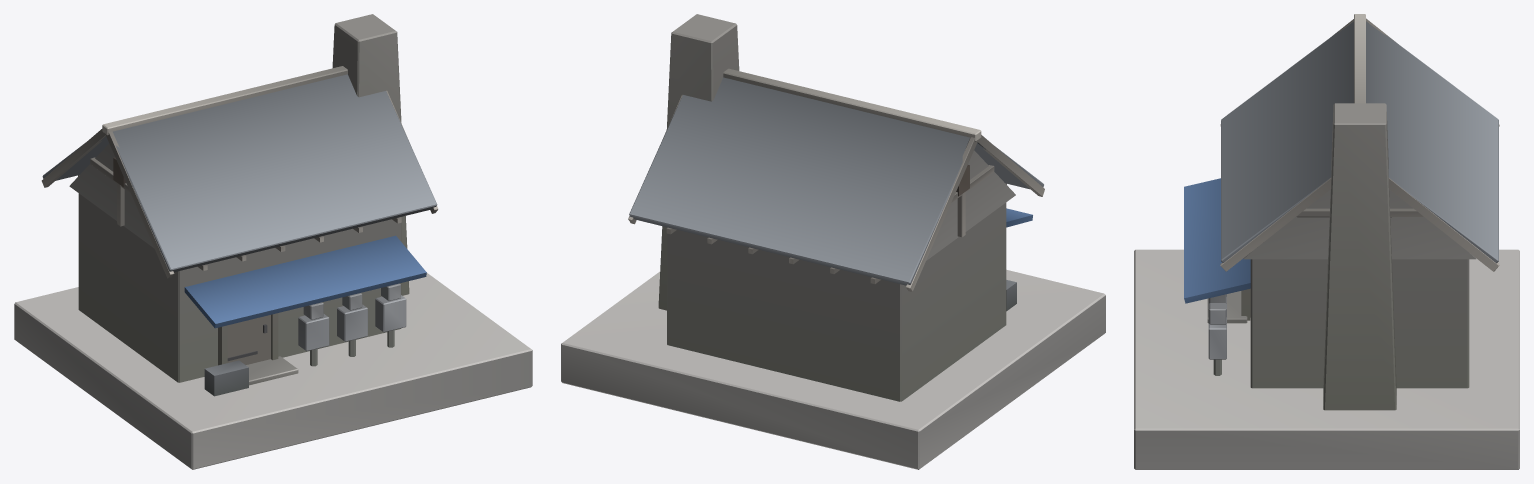
File: armourer_l1_lod0.glb
3 views of the same model, side by side, from view 1: azimuth 30°, elevation 25°; view 2: azimuth 150°, elevation 25°; view 3: azimuth 270°, elevation 25° (orthographic). The views are drawn at different scales.
Visible parts, largest first — view 1: armourer_l1_lod0; view 2: armourer_l1_lod0; view 3: armourer_l1_lod0.
Part boxes in pixels (x1,y1,x2,y2): armourer_l1_lod0: (14, 14, 532, 469); armourer_l1_lod0: (561, 14, 1105, 469); armourer_l1_lod0: (1134, 14, 1519, 469).
Size of the model in its own units: 8.4 by 7.05 by 7.6.
